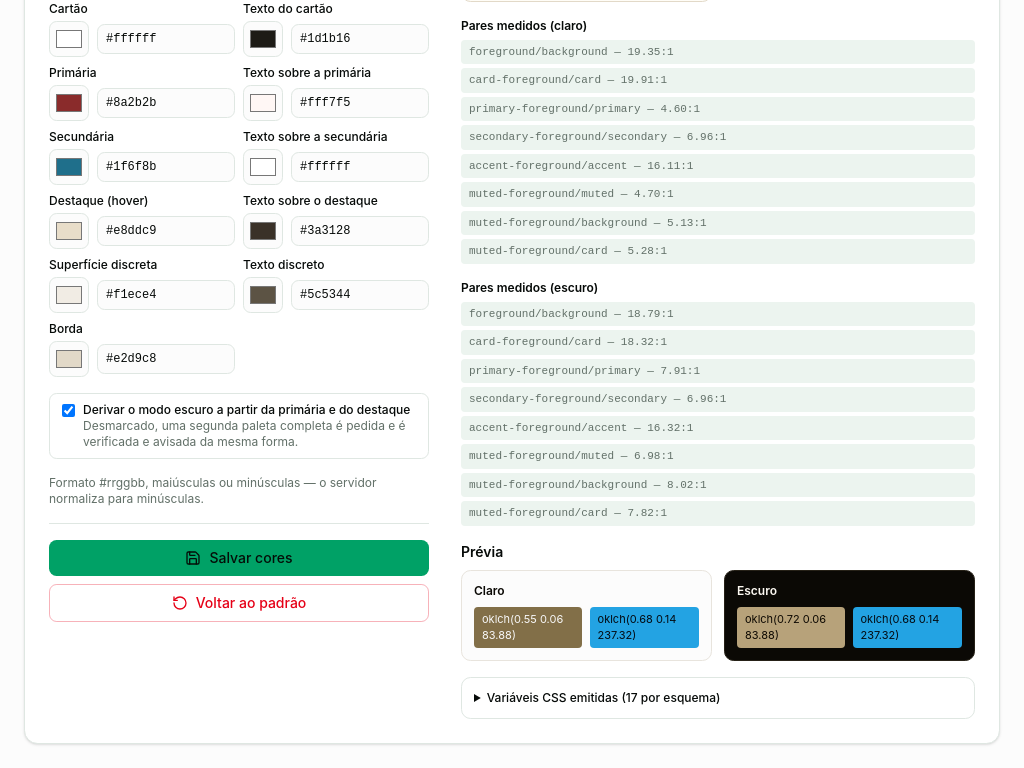
it: a condominium that already authored a palette › announces the save and drops the draft once the server answers
(page scrolled)
Click the button "Salvar cores". click: {"x": 239, "y": 558}
box: [49,540,429,576]
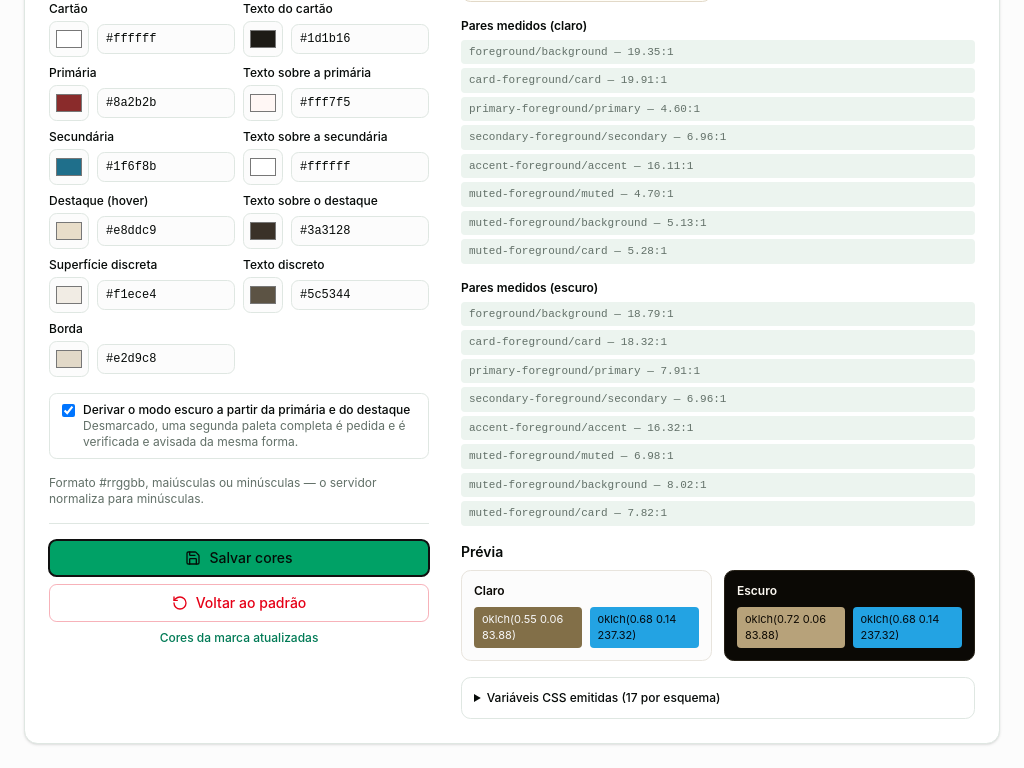
Now the text "Cores da marca atualizadas" is shown, box [160,630,318,645]
